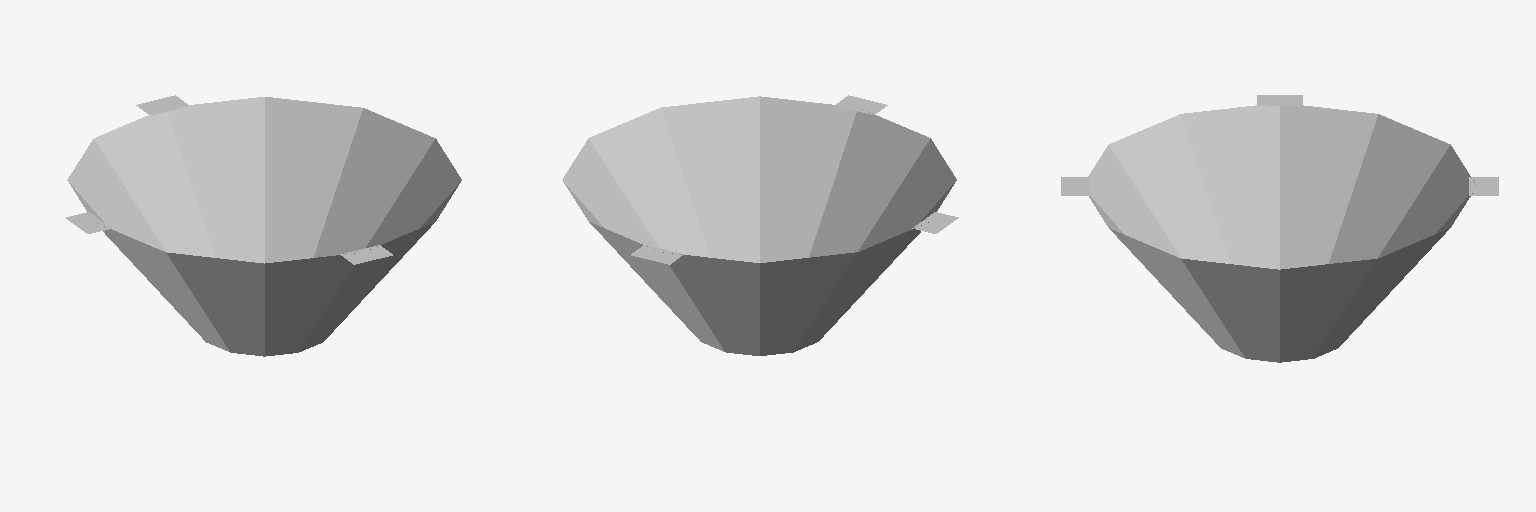
The model's file is ground_straight_3w_90_crack2.obj.
3 views of the same model, side by side, from view 1: azimuth 30°, elevation 25°; view 2: azimuth 150°, elevation 25°; view 3: azimuth 270°, elevation 25° (orthographic).
Parts seen in each view (by area): view 1: Circle_Circle.001, Cube.001_Cube.001, Cube.003_Cube.002, Cube.002_Cube.001; view 2: Circle_Circle.001, Cube.001_Cube.001, Cube.003_Cube.002, Cube.002_Cube.001; view 3: Circle_Circle.001, Cube.001_Cube.001, Cube.003_Cube.002.
Boxes of the visible parts, x1,y1,x2,y2 form: Circle_Circle.001: [67, 97, 461, 356]; Cube.001_Cube.001: [136, 95, 187, 115]; Cube.003_Cube.002: [340, 245, 392, 264]; Cube.002_Cube.001: [66, 212, 111, 233]; Circle_Circle.001: [562, 96, 956, 355]; Cube.001_Cube.001: [631, 245, 683, 264]; Cube.003_Cube.002: [835, 95, 887, 114]; Cube.002_Cube.001: [912, 212, 958, 233]; Circle_Circle.001: [1083, 103, 1476, 362]; Cube.001_Cube.001: [1469, 177, 1498, 195]; Cube.003_Cube.002: [1061, 177, 1089, 195].
Bounding box in the file's own units: 1.89 × 0.7436 × 1.99.